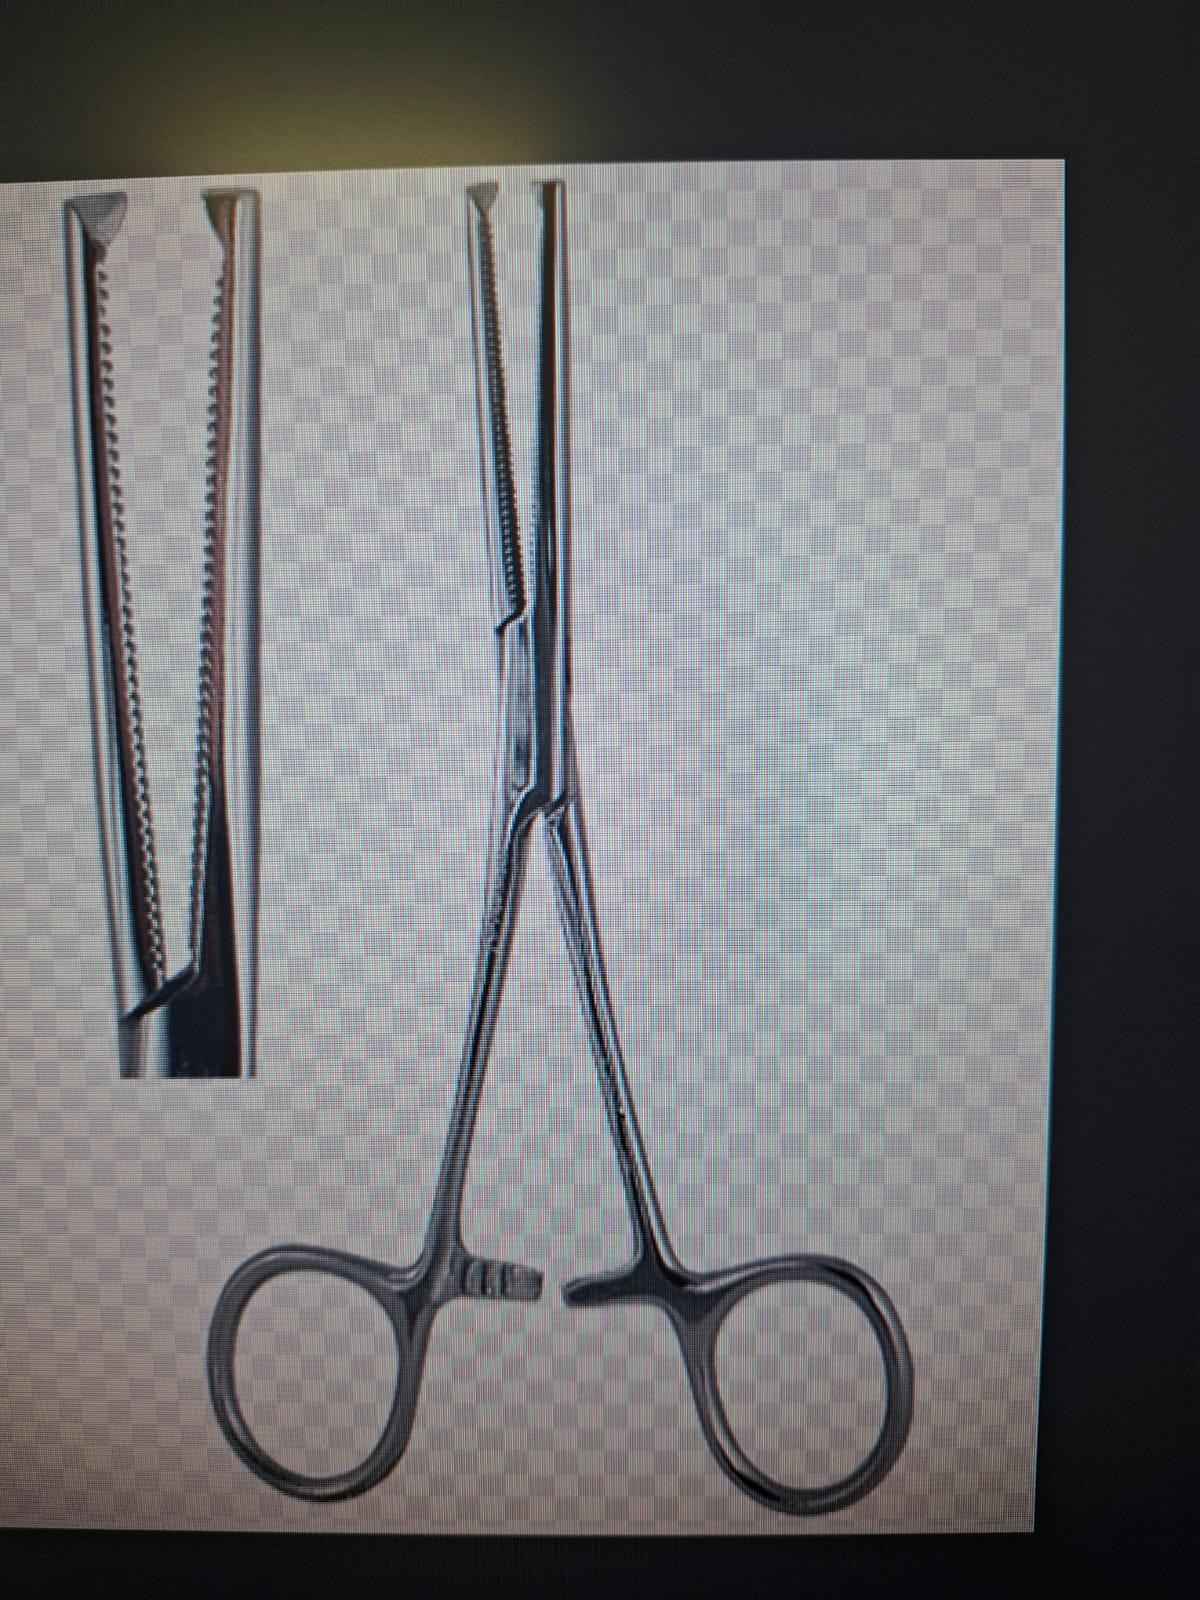Kocher Forceps: (215, 180, 930, 1527)
